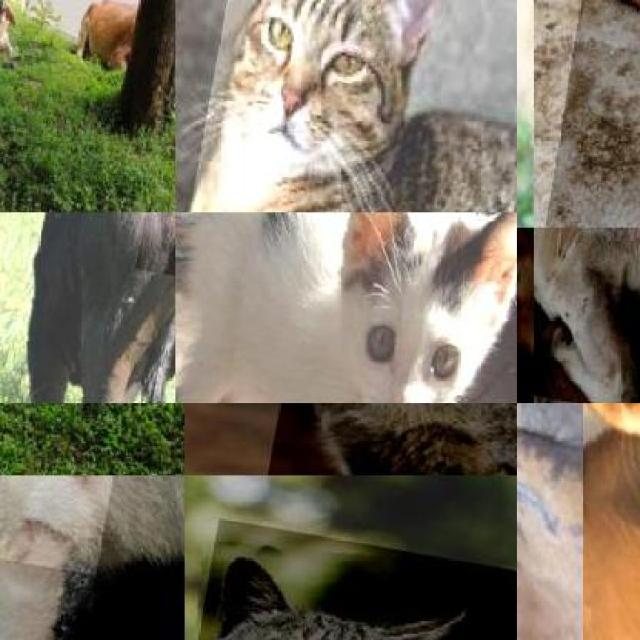buffalo: (0, 212, 175, 403)
cat: (175, 0, 516, 212), (175, 212, 517, 403), (185, 517, 517, 640), (0, 475, 185, 640)
cow: (534, 228, 640, 403), (583, 403, 640, 640)
dog: (534, 0, 640, 228), (517, 403, 583, 640)
injured: (0, 475, 129, 574)
